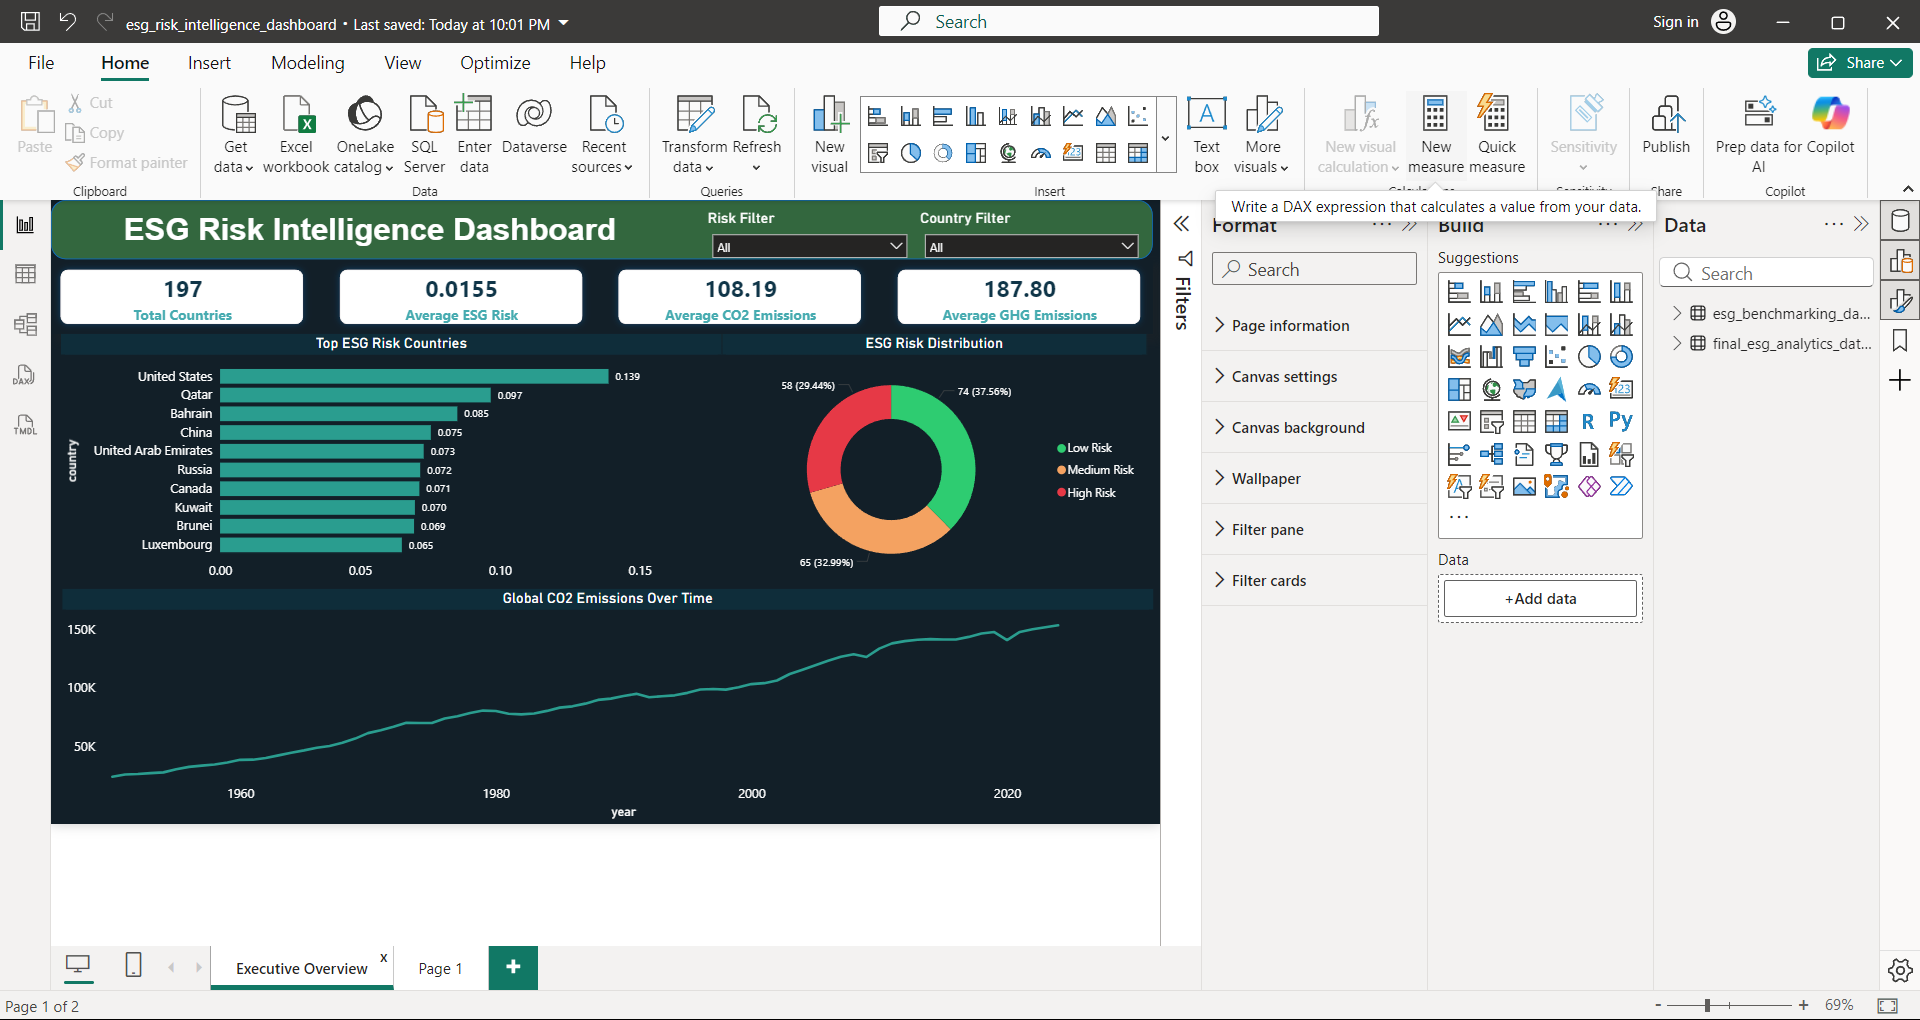

Layout of this report page (visuals, bound fields, positions):
{"tool":"powerbi","page":{"name":"Executive Overview","canvas":[1280,720],"ordinal":0},"visuals":[{"type":"cardVisual","fields":{"Data":["Count(esg_benchmarking_dataset.country)","Avg(esg_benchmarking_dataset.esg_risk_score)","Avg(esg_benchmarking_dataset.co2)","Avg(esg_benchmarking_dataset.total_ghg)"]},"box":[0,68.6,1271.7,85.7],"z":0},{"type":"textbox","box":[0,15.8,1280,77],"z":1000},{"type":"shape","box":[5.8,0,1271.1,69.3],"z":2000},{"type":"clusteredBarChart","title":"Top ESG Risk Countries","fields":{"Category":["esg_benchmarking_dataset.country"],"Y":["Avg(esg_benchmarking_dataset.esg_risk_score)"]},"box":[12.1,154.4,762.5,294.4],"z":3000},{"type":"donutChart","title":"ESG Risk Distribution","fields":{"Category":["esg_benchmarking_dataset.risk_category"],"Y":["CountNonNull(esg_benchmarking_dataset.country)"]},"box":[774.5,154.3,489.4,294.5],"z":4000},{"type":"lineChart","title":"Global CO2 Emissions Over Time","fields":{"Category":["final_esg_analytics_dataset.year"],"Y":["Sum(final_esg_analytics_dataset.co2)"]},"box":[12.5,448.8,1259.2,271.2],"z":5000},{"type":"slicer","title":"Risk Filter","fields":{"Values":["esg_benchmarking_dataset.risk_category"]},"box":[752.8,9.7,244.9,68.8],"z":6000},{"type":"slicer","title":"Country Filter","fields":{"Values":["esg_benchmarking_dataset.country"]},"box":[998.4,10.1,249.6,89.5],"z":7000},{"type":"image","box":[0,0,90.9,69.1],"z":9500}]}

Visuals, with their boxes on the page's 1280x720 design canvas (x1, y1, x2, y2). These are canvas units, not pixel positions in the 1920x1020 screenshot, which may show the page scaled, cropped or inside an application window:
cardVisual - Count(esg_benchmarking_dataset.country) x Avg(esg_benchmarking_dataset.esg_risk_score): 0/69/1272/154
textbox: 0/16/1280/93
shape: 6/0/1277/69
"Top ESG Risk Countries" clusteredBarChart: 12/154/775/449
"ESG Risk Distribution" donutChart: 774/154/1264/449
"Global CO2 Emissions Over Time" lineChart: 12/449/1272/720
"Risk Filter" slicer: 753/10/998/78
"Country Filter" slicer: 998/10/1248/100
image: 0/0/91/69
